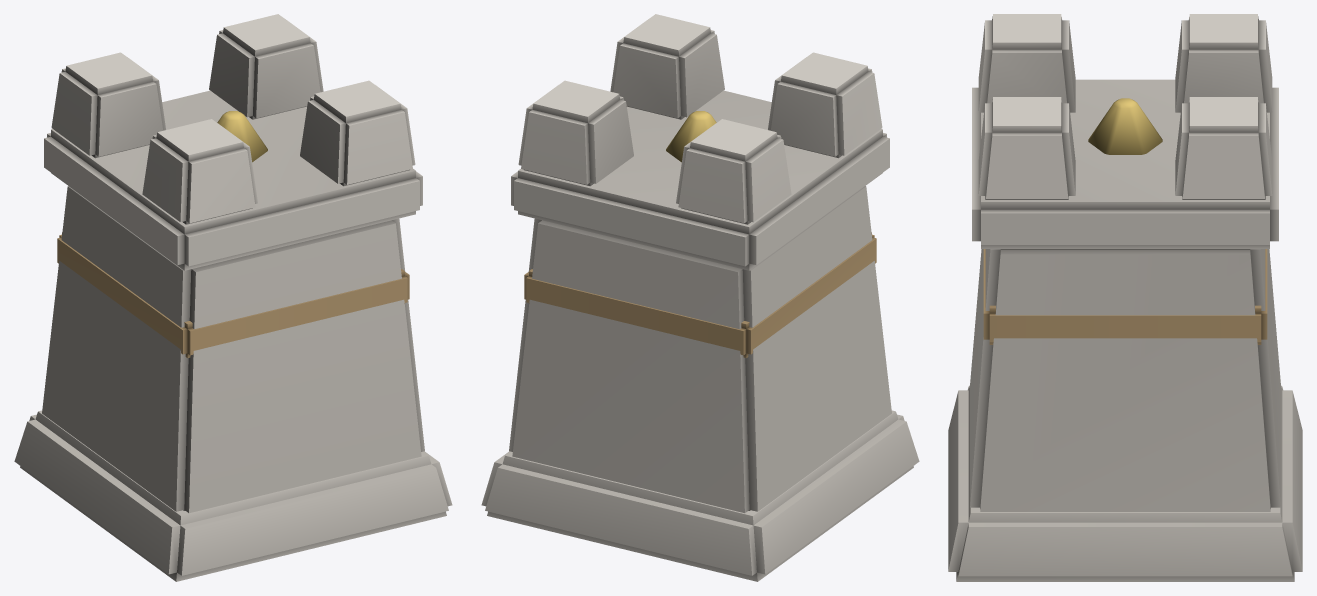
File: wall_pillar_lod0.glb
3 renders of one model, left to right at view 1: azimuth 30°, elevation 25°; view 2: azimuth 150°, elevation 25°; view 3: azimuth 270°, elevation 25°, orthographic. The views are drawn at different scales.
Parts seen in each view (by area): view 1: wall_pillar; view 2: wall_pillar; view 3: wall_pillar.
Part boxes in pixels (x1,y1,x2,y2): wall_pillar: (14, 14, 452, 581); wall_pillar: (481, 14, 919, 581); wall_pillar: (948, 14, 1302, 581).
Bounding box in the file's own units: 1.23 × 1.68 × 1.23.
